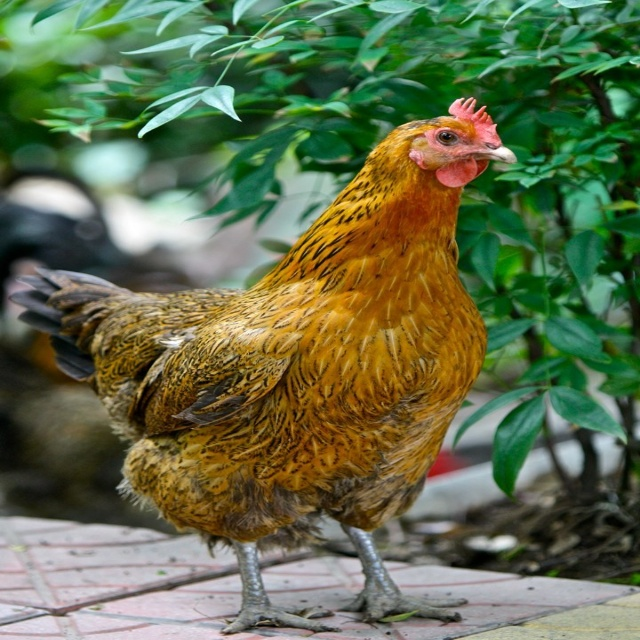Chicken: (8, 97, 517, 634)
